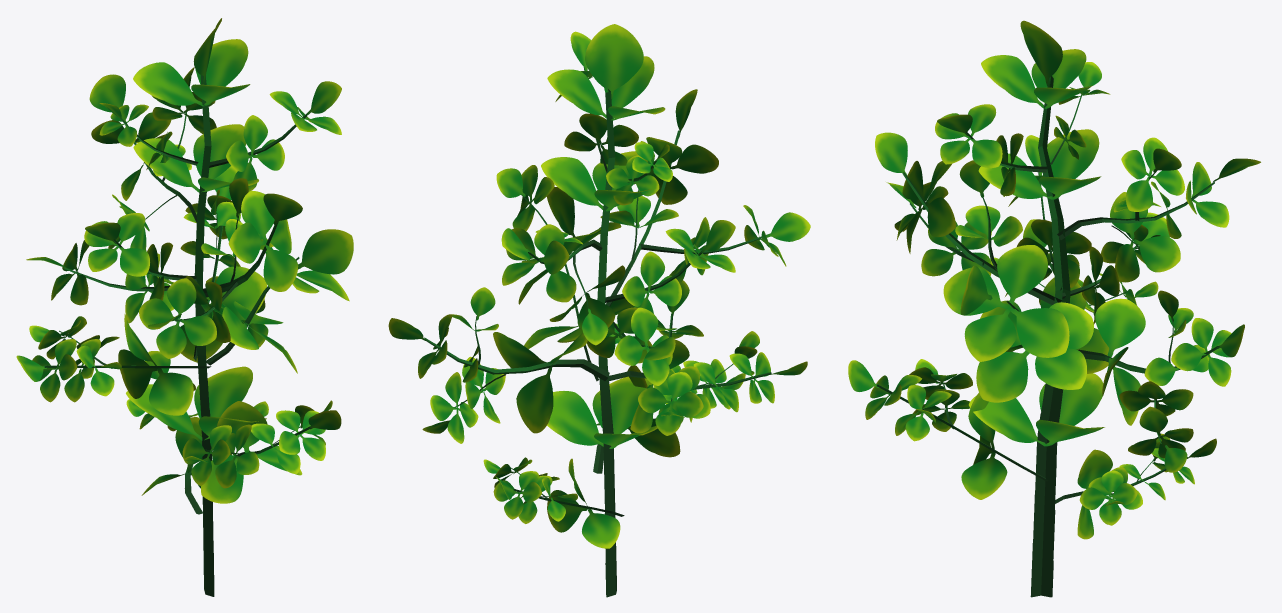
Rendered from SM_Bush.fbx.
The picture shows the model from 3 angles, left to right: view 1: azimuth 30°, elevation 25°; view 2: azimuth 150°, elevation 25°; view 3: azimuth 270°, elevation 25°; orthographic projection. The views are drawn at different scales.
Parts seen in each view (by area): view 1: SM_Bush; view 2: SM_Bush; view 3: SM_Bush.
Part boxes in pixels (bbox=[...]): SM_Bush: bbox=[16, 18, 353, 596]; SM_Bush: bbox=[388, 24, 810, 597]; SM_Bush: bbox=[848, 20, 1260, 597].
Size of the model in its own units: 108 by 119 by 183.
1 material, 1 textured.
